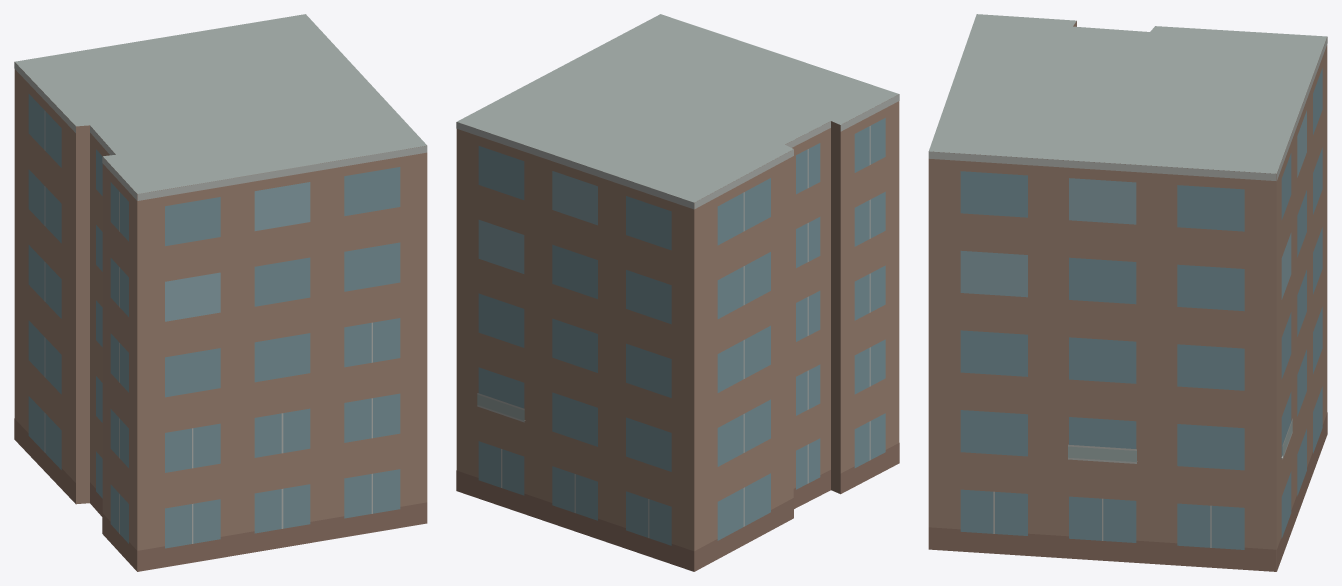
The model's file is survey-upis-32875378.glb.
3 renders of one model, left to right at view 1: azimuth 30°, elevation 25°; view 2: azimuth 150°, elevation 25°; view 3: azimuth 270°, elevation 25°, orthographic. The views are drawn at different scales.
Visible parts, largest first — view 1: survey-upis-32875378.tmp; view 2: survey-upis-32875378.tmp; view 3: survey-upis-32875378.tmp.
Part boxes in pixels (bbox=[...]): survey-upis-32875378.tmp: bbox=[14, 14, 427, 571]; survey-upis-32875378.tmp: bbox=[456, 14, 899, 571]; survey-upis-32875378.tmp: bbox=[928, 14, 1327, 571].
Bounding box in the file's own units: 11.37 × 13.2 × 11.99.
